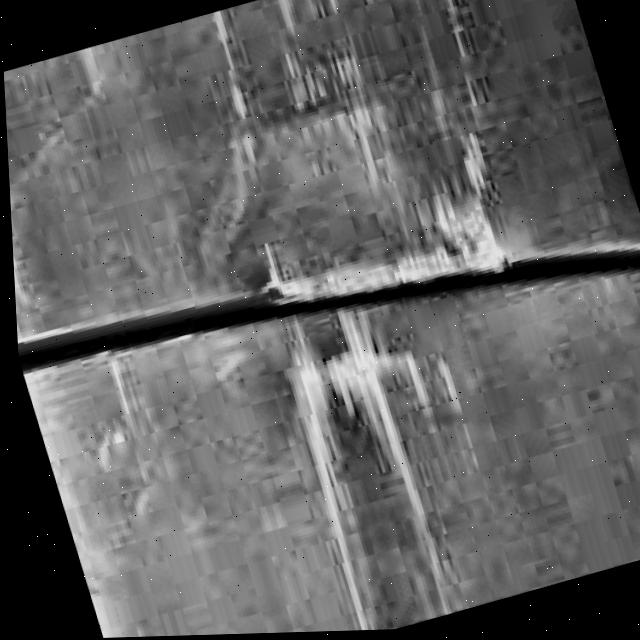door_scratch: (249, 175, 555, 446)
